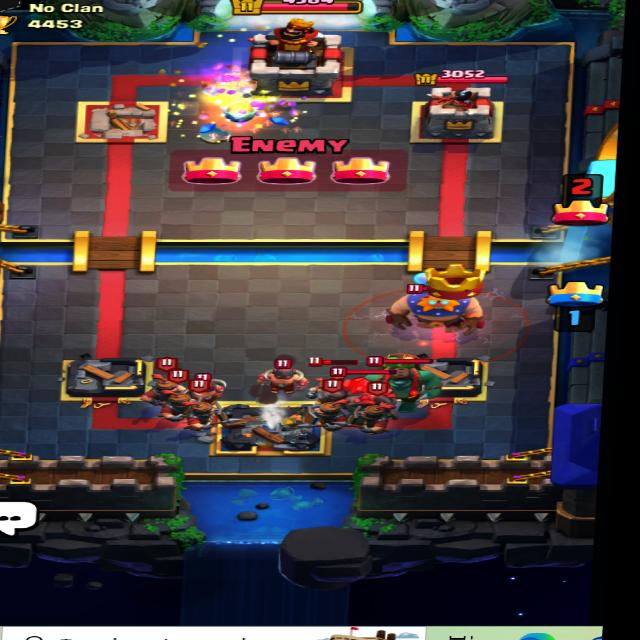Ebarbs: (247, 354, 315, 392)
Egiant: (390, 282, 497, 345)
Goblingiant: (361, 353, 441, 407)
Golem: (306, 368, 410, 419)
Royalrecruits: (347, 386, 406, 438), (312, 386, 370, 430), (136, 364, 190, 408), (145, 382, 199, 421), (180, 392, 230, 432)
